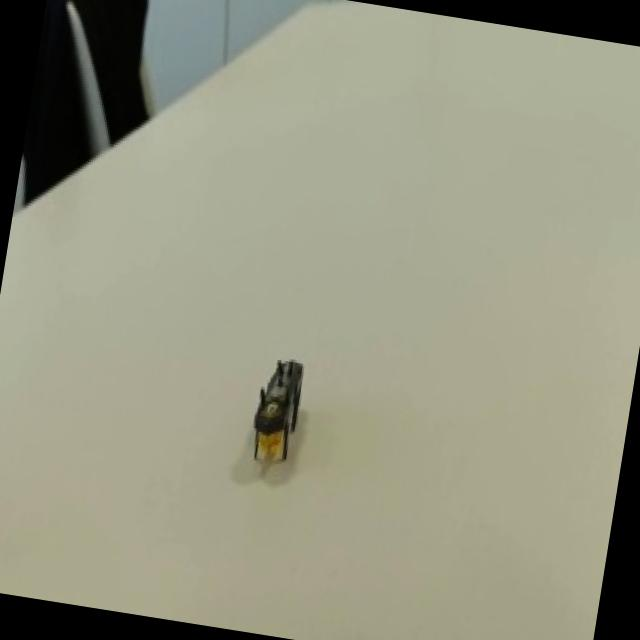6_NanoBug_GrisOscuro: (222, 314, 340, 510)
